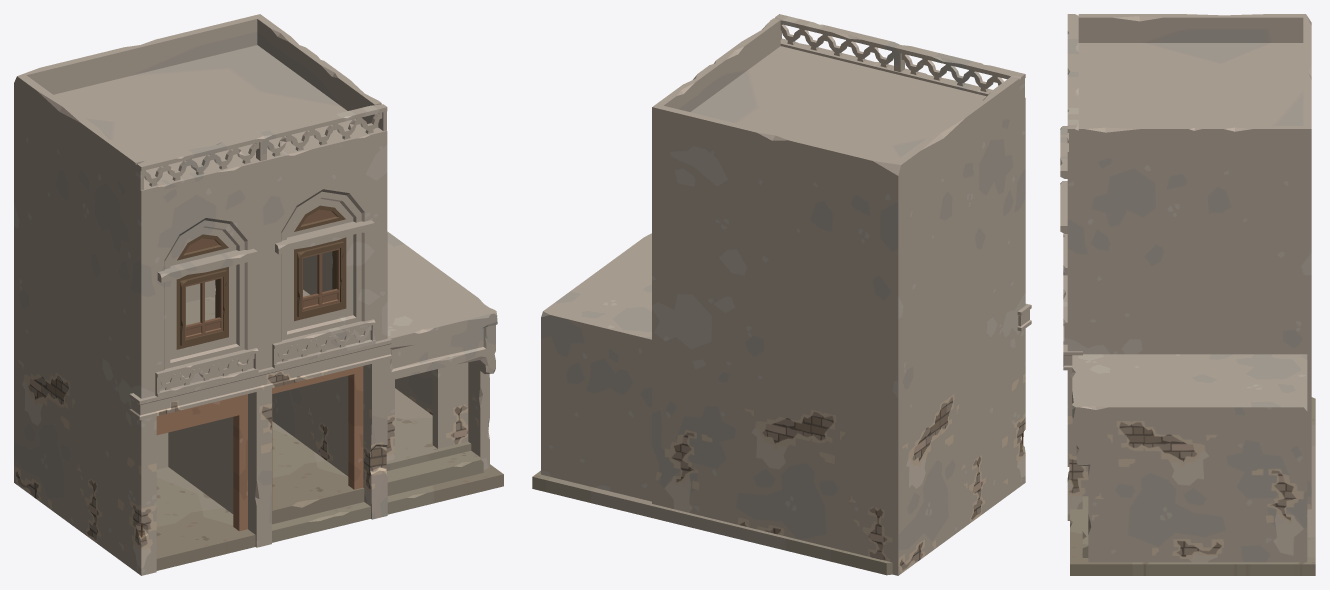
The model's file is SM_Bld_Shop_01.glb.
3 renders of one model, left to right at view 1: azimuth 30°, elevation 25°; view 2: azimuth 150°, elevation 25°; view 3: azimuth 270°, elevation 25°, orthographic. The views are drawn at different scales.
Parts seen in each view (by area): view 1: SM_Bld_Shop_01; view 2: SM_Bld_Shop_01; view 3: SM_Bld_Shop_01.
Boxes of the visible parts, x1,y1,x2,y2 form: SM_Bld_Shop_01: (14,14,503,575); SM_Bld_Shop_01: (532,14,1031,575); SM_Bld_Shop_01: (1060,14,1315,575).
Bounding box in the file's own units: 9.56 × 10.16 × 6.
Materials: 1 (1 with a texture image).
